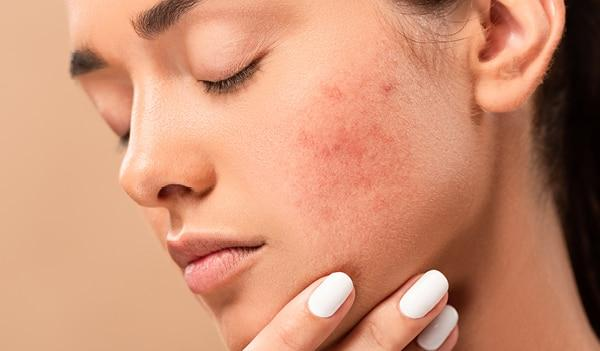Acne: (235, 37, 447, 236)
